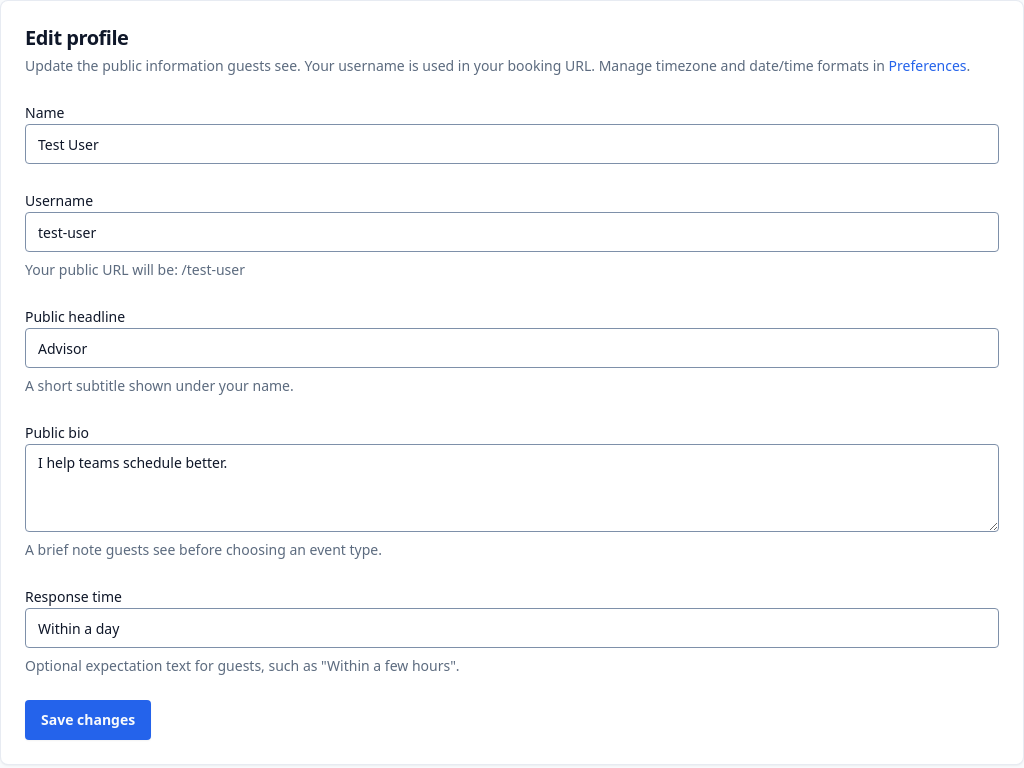
Test: ProfileForm › refreshes server-rendered dashboard data after a successful profile save
This screenshot has width=1024, height=768.
Replace the text in the field labelled "Name" with "Updated User" at (512, 144), box [25,124,999,164]
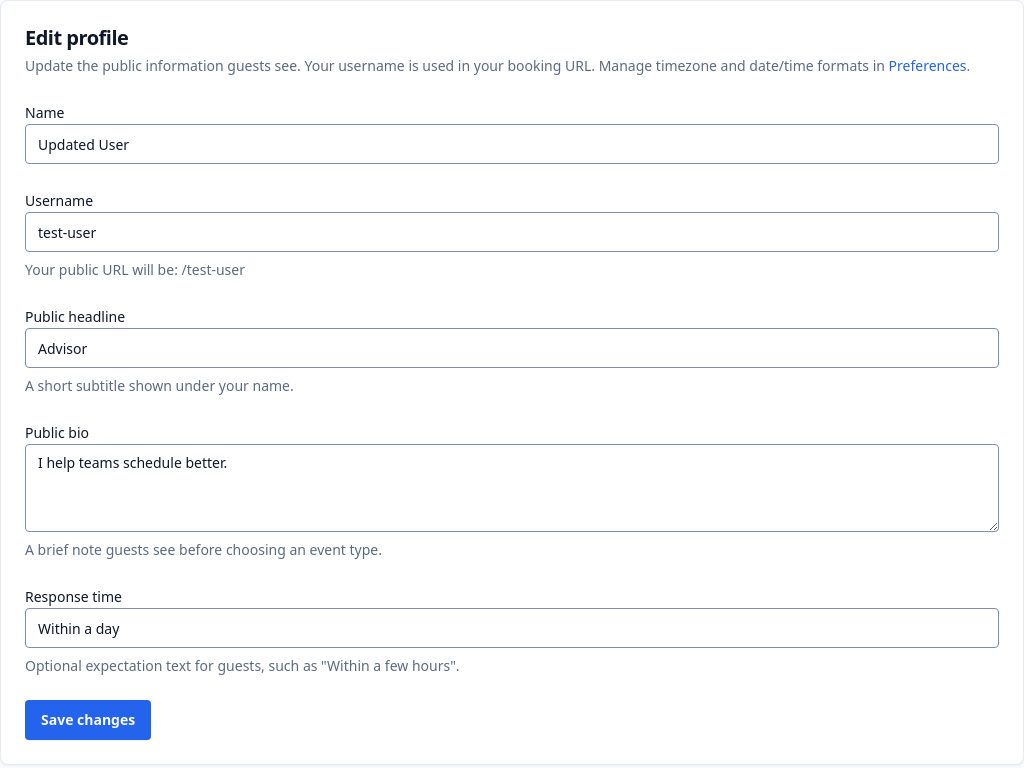
Click the button "Save changes".
click(88, 720)  # box [25,700,151,740]
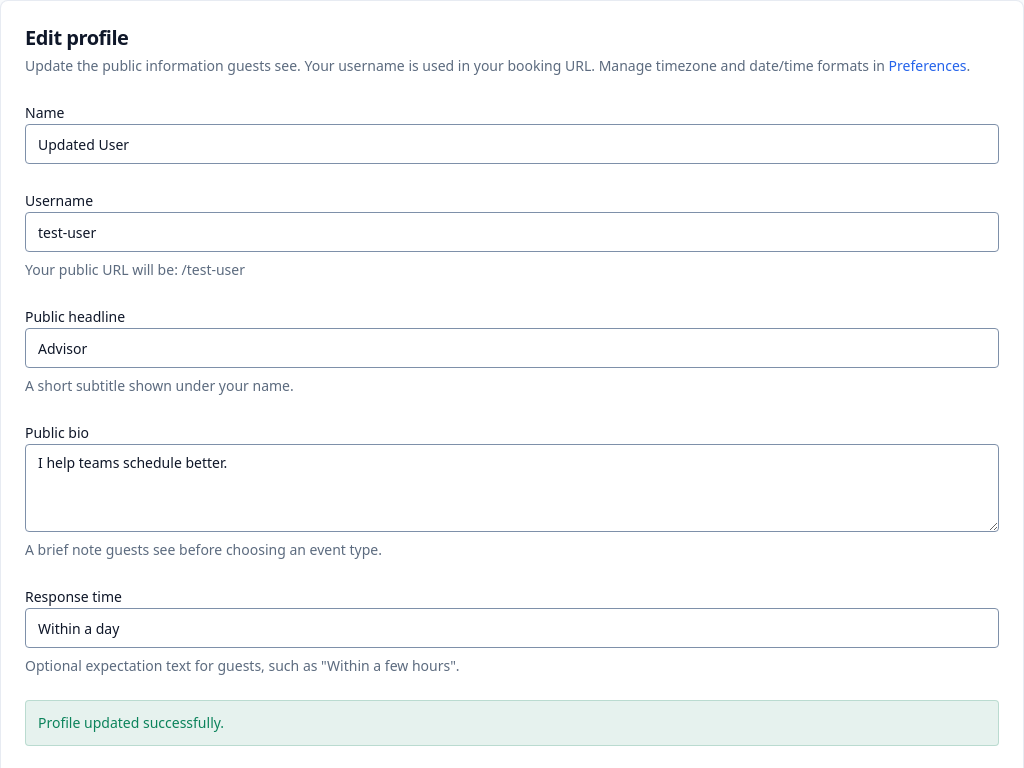
Check: the message reads "Profile updated successfully.", box [38,713,224,732]
